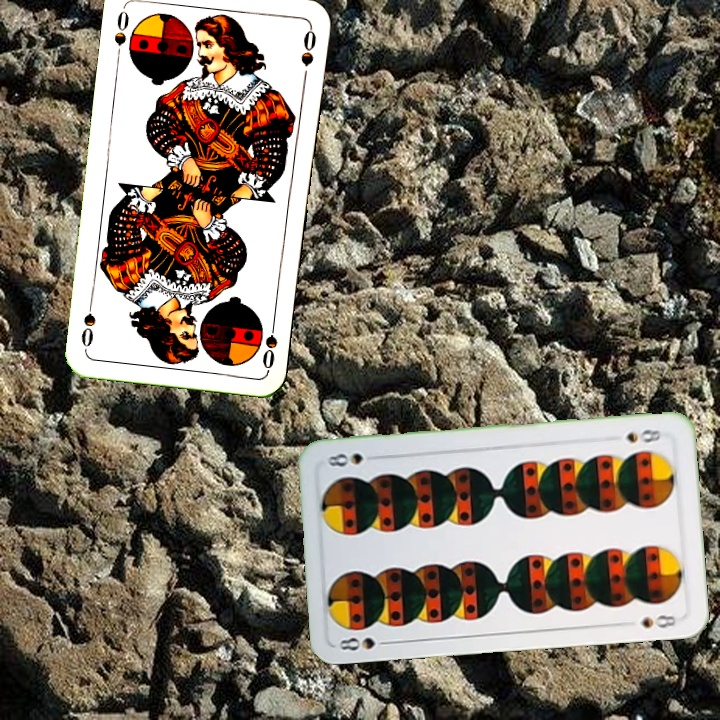S8: (335, 633, 394, 655), (622, 425, 663, 446)
SO: (258, 313, 280, 372), (110, 4, 132, 63)
